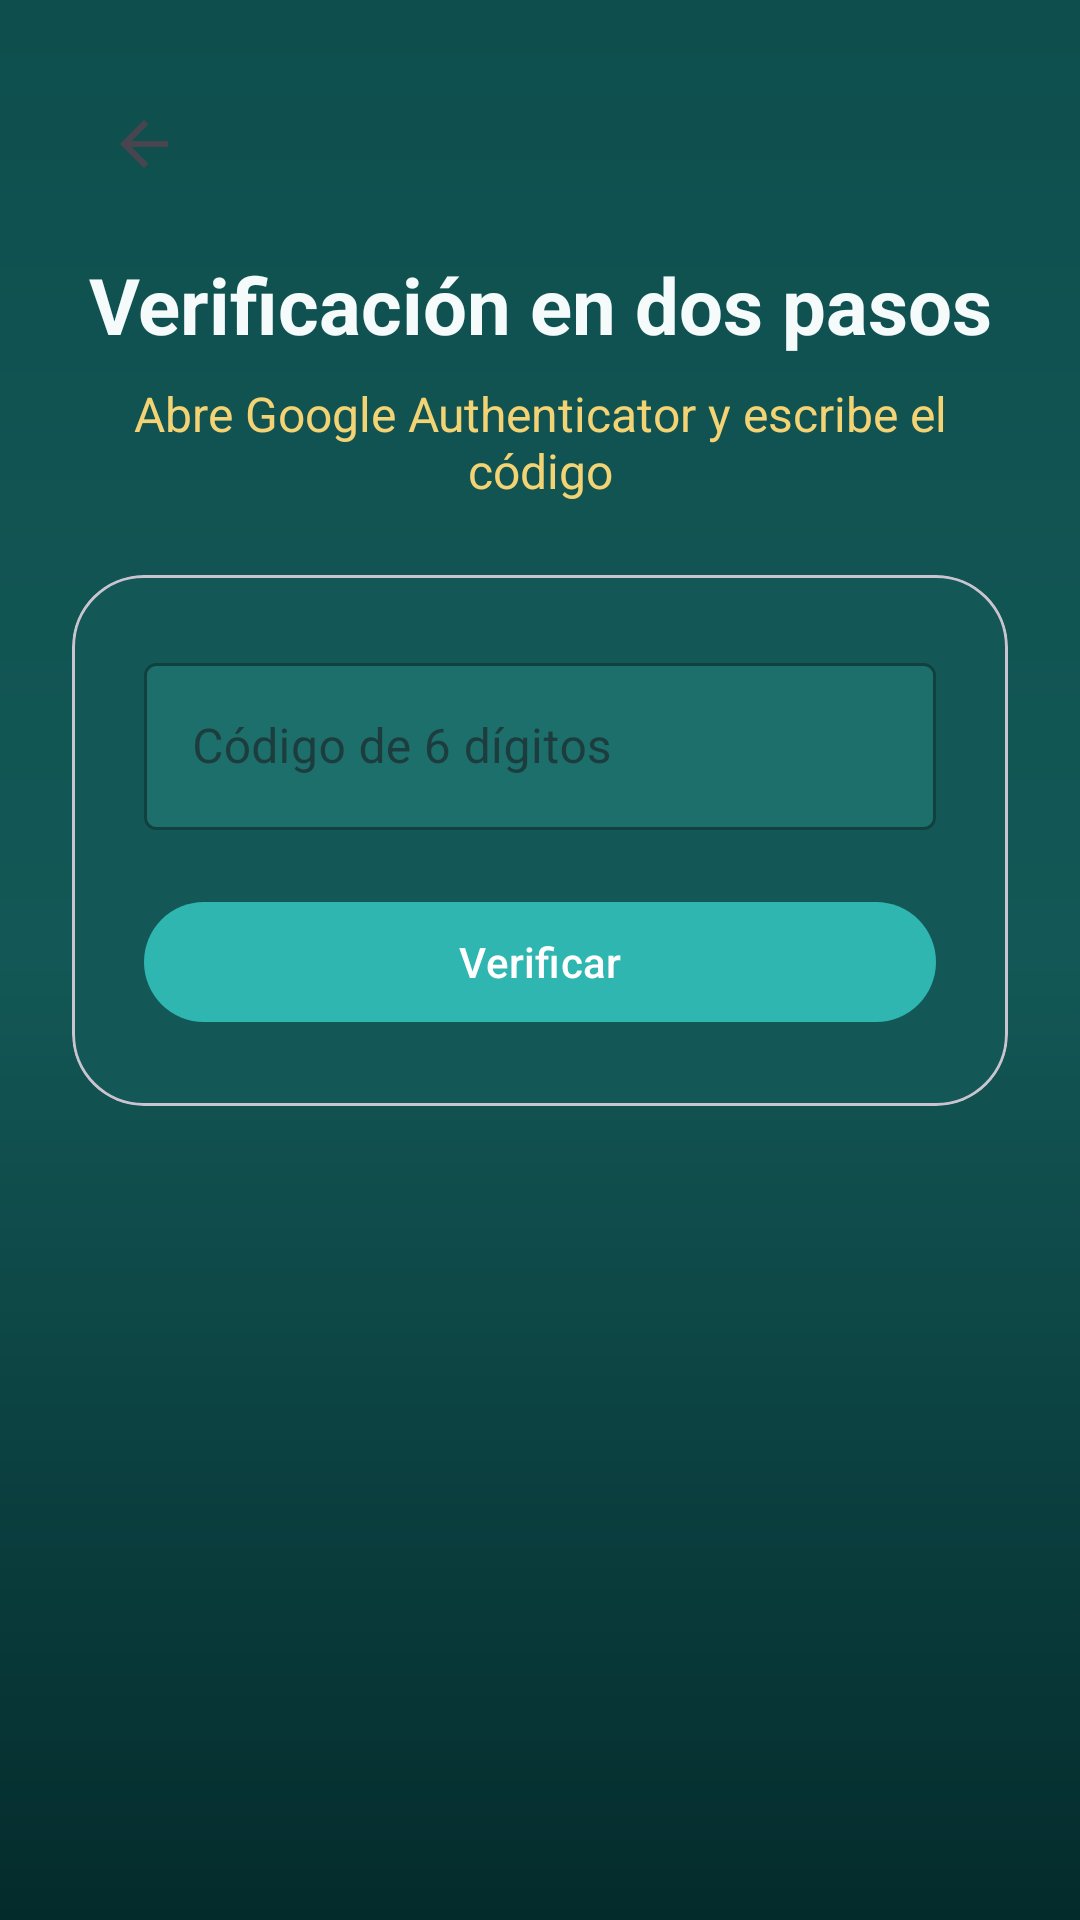

Screen size 1080*1920. Icon name, then its center in pixels as point (x, y):
Volver: point (144, 144)
